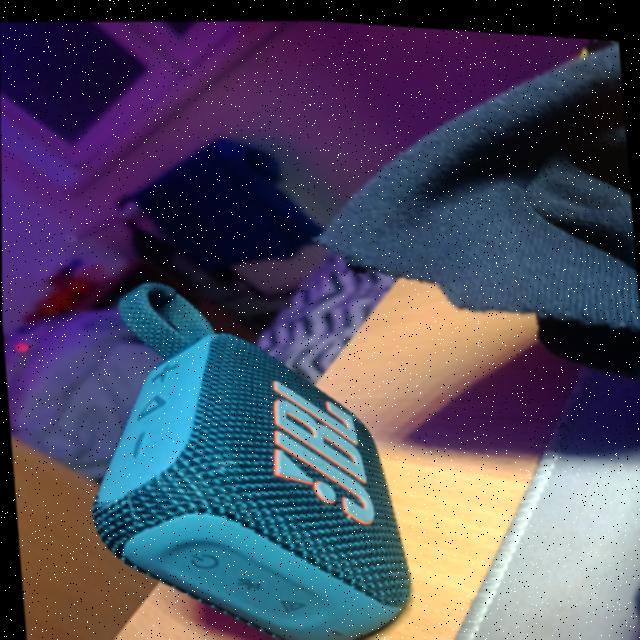column JBL: (76, 296, 419, 640)
